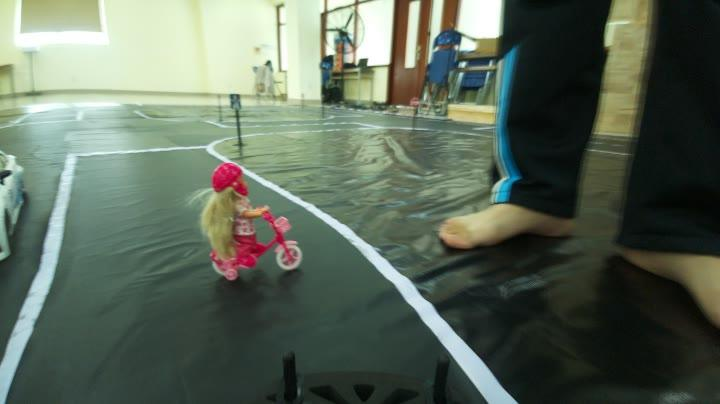pedestrian: (186, 162, 319, 282)
